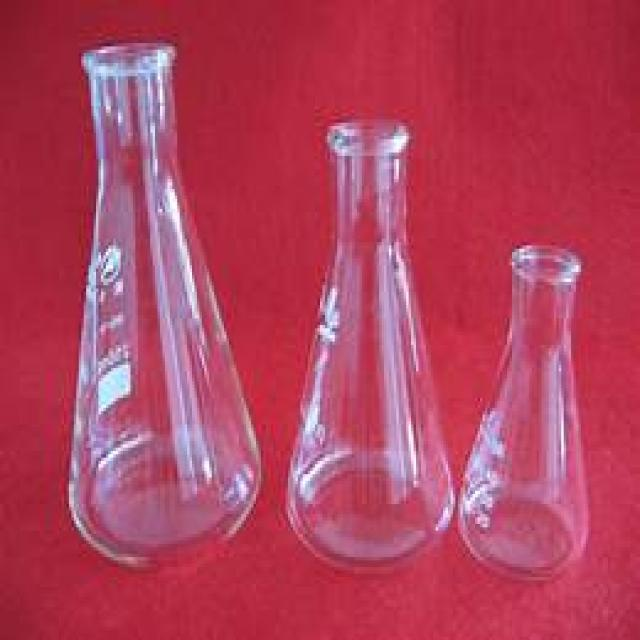Titrarion: (63, 42, 264, 566), (278, 109, 454, 575), (460, 232, 593, 577)
